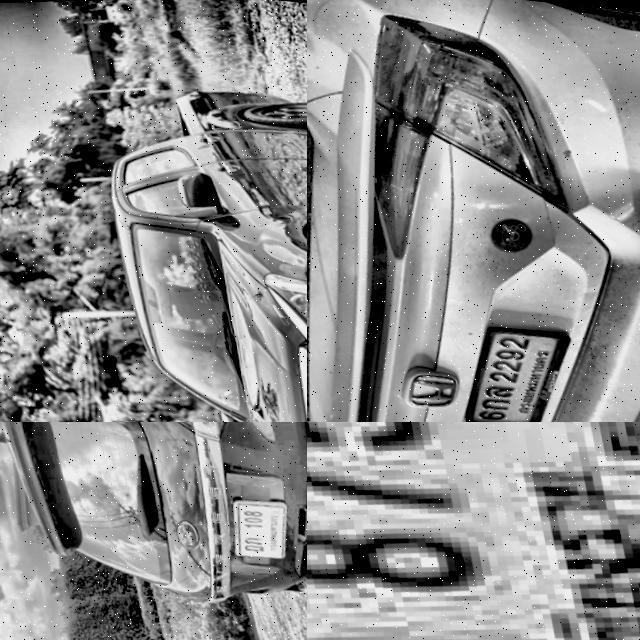license-plate: (307, 422, 640, 640), (434, 303, 581, 422), (214, 486, 287, 558)
